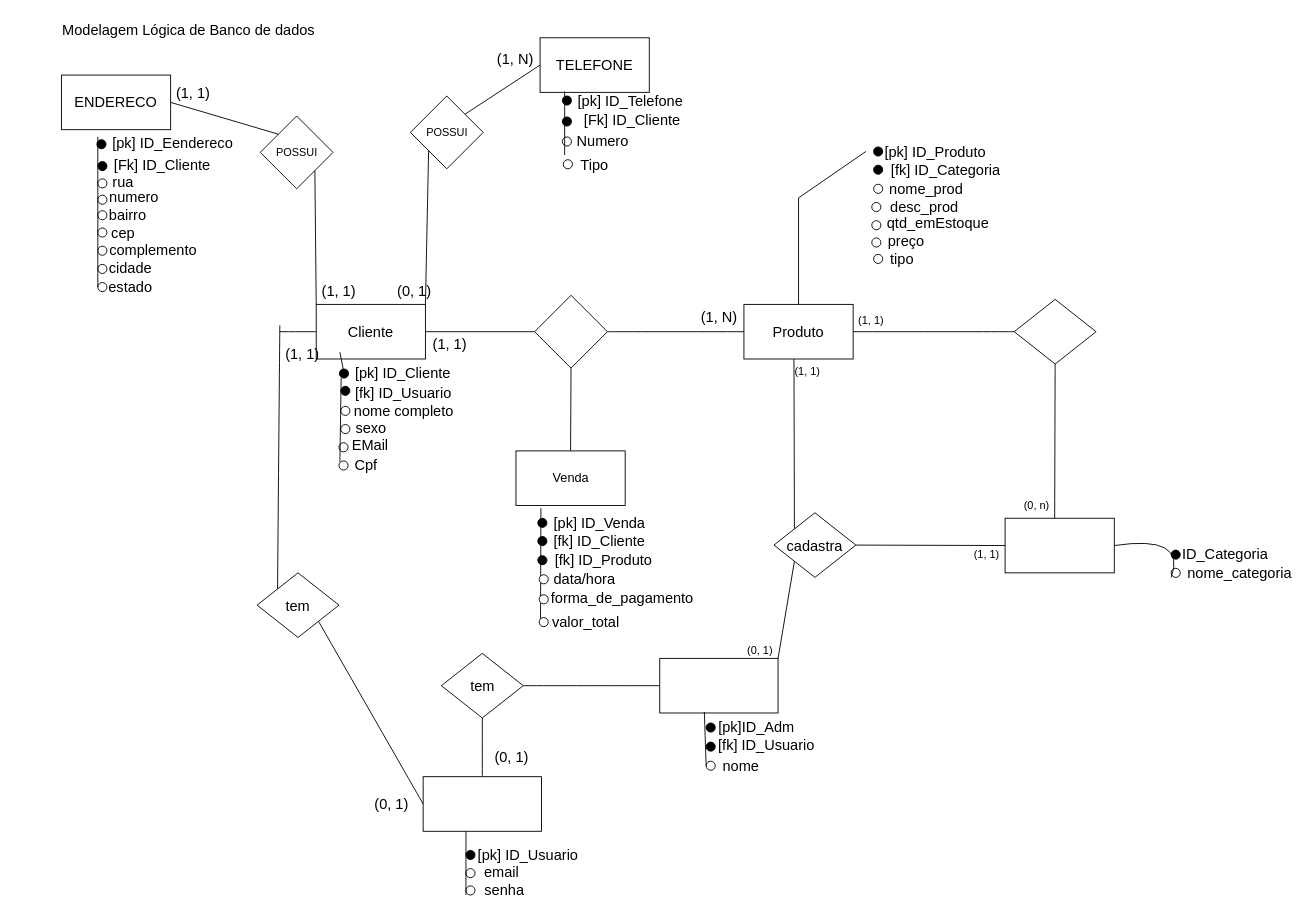
The diagram is 1307 pixels wide and 919 high, and some of its shapes have lost their labels. Each missing label, with the centre of its shape:
Categoria: the point at 1059,545
Funcionario: the point at 718,685
Pedido: the point at 570,331
pertence: the point at 1054,331
Usuario: the point at 481,803
